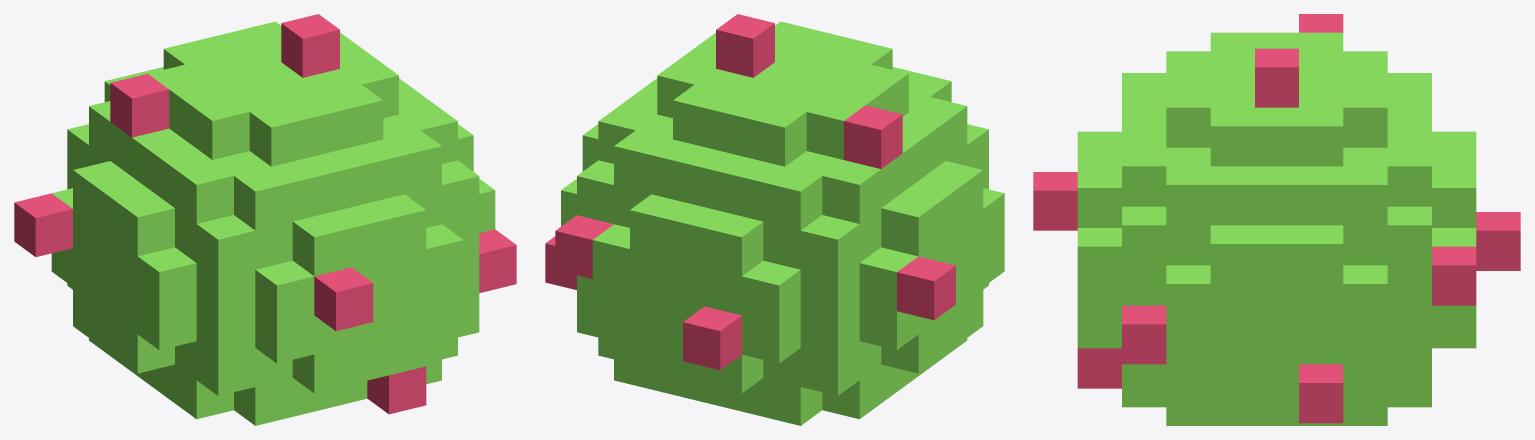
File: SimpleBush_FruitsSmall.obj
The picture shows the model from 3 angles, left to right: view 1: azimuth 30°, elevation 25°; view 2: azimuth 150°, elevation 25°; view 3: azimuth 270°, elevation 25°; orthographic projection. The views are drawn at different scales.
Bounding box in the file's own units: 1.1 × 0.8 × 1.1.
1 material, 1 textured.
